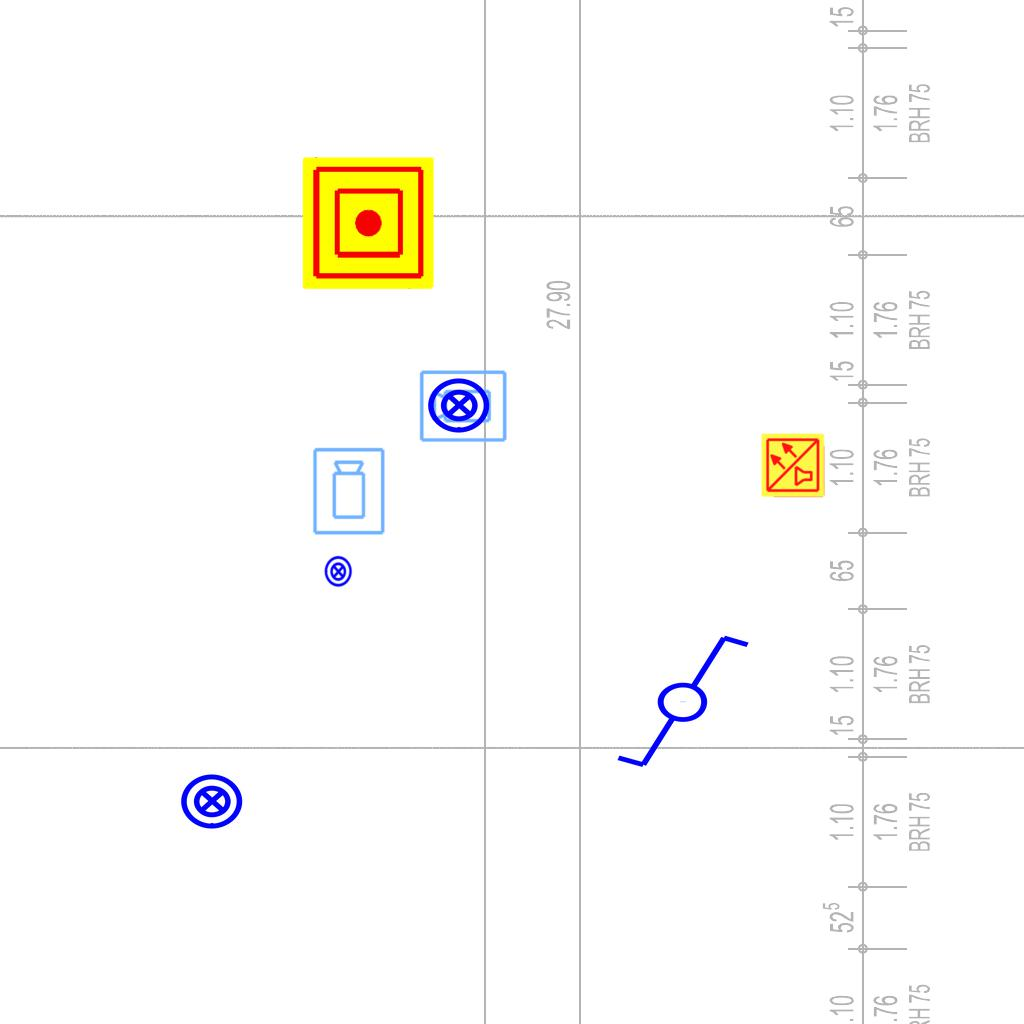KFO_Kamera_mit_Festobjektiv: (311, 446, 388, 537), (418, 367, 509, 444)
NAM-Nichtautomatischer_Melder: (302, 157, 434, 289)
OKW_Multisensormelder_(Kombination_optischer_Rauch-Kahlenmonoxid_Waerme-Melder): (760, 432, 826, 498)
Taster_beleuchtet: (179, 768, 245, 834), (426, 372, 492, 438), (322, 555, 355, 588)
Wechselschalter: (596, 628, 753, 772)
